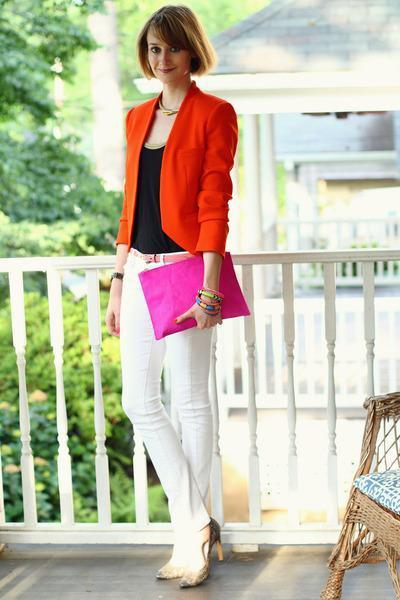bag: (139, 234, 253, 339)
jacket: (115, 84, 237, 260)
pants: (109, 277, 234, 527)
shirt: (130, 132, 179, 255)
shoe: (174, 501, 231, 577)
